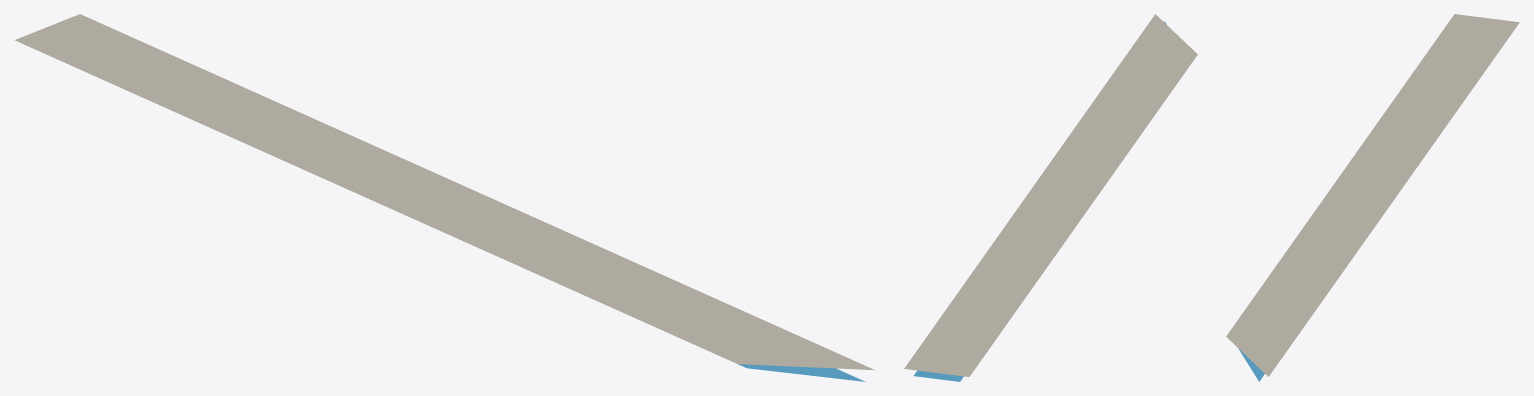
3 views of the same model, side by side, from view 1: azimuth 30°, elevation 25°; view 2: azimuth 150°, elevation 25°; view 3: azimuth 330°, elevation 25° (orthographic). The views are drawn at different scales.
Visible parts, largest first — view 1: estructura_terreno, estructura_agua; view 2: estructura_terreno, estructura_agua; view 3: estructura_terreno.
Boxes of the visible parts, x1,y1,x2,y2 form: estructura_terreno: (14,14,874,370); estructura_agua: (44,53,865,381); estructura_terreno: (904,14,1197,376); estructura_agua: (913,21,1166,381); estructura_terreno: (1226,14,1519,376).
Size of the model in its own units: 16.53 by 0.41 by 52.61.
